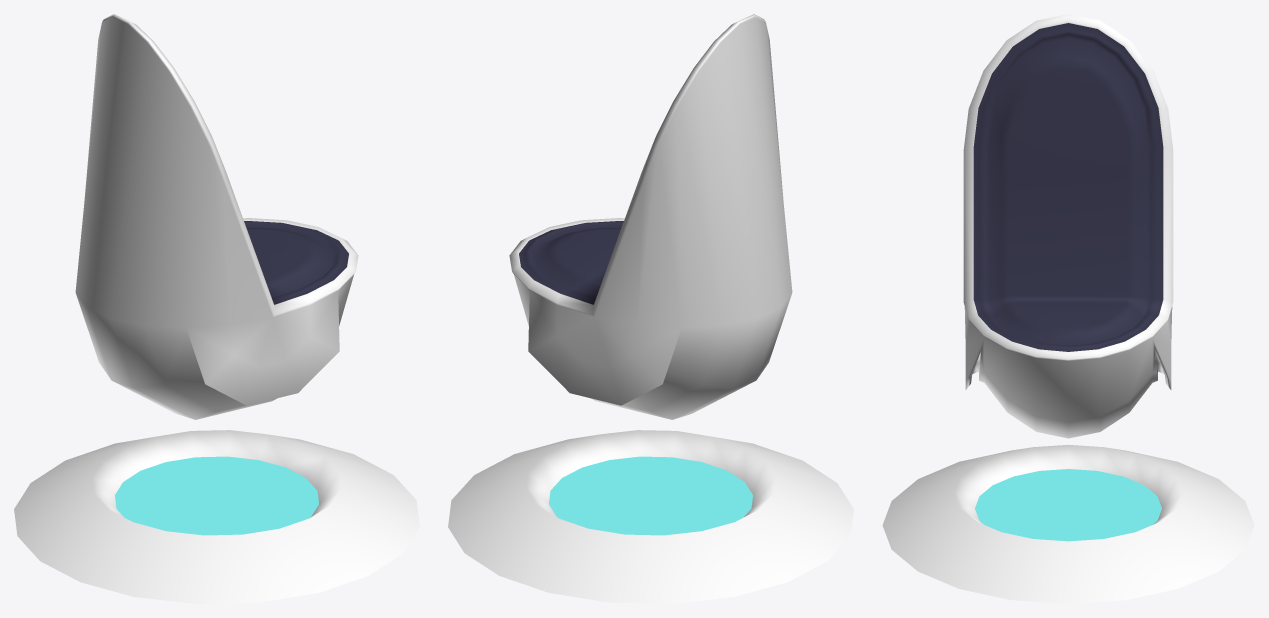
File: Bridge_Chair_01_Mesh.fbx
The picture shows the model from 3 angles, left to right: view 1: azimuth 30°, elevation 25°; view 2: azimuth 150°, elevation 25°; view 3: azimuth 270°, elevation 25°; orthographic projection. The views are drawn at different scales.
Visible parts, largest first — view 1: Bridge_Chair_01_Mesh; view 2: Bridge_Chair_01_Mesh; view 3: Bridge_Chair_01_Mesh.
Boxes of the visible parts, bbox=[...] form: Bridge_Chair_01_Mesh: bbox=[14, 14, 419, 603]; Bridge_Chair_01_Mesh: bbox=[448, 14, 853, 603]; Bridge_Chair_01_Mesh: bbox=[882, 14, 1254, 603].
Bounding box in the file's own units: 397 × 557 × 397.
